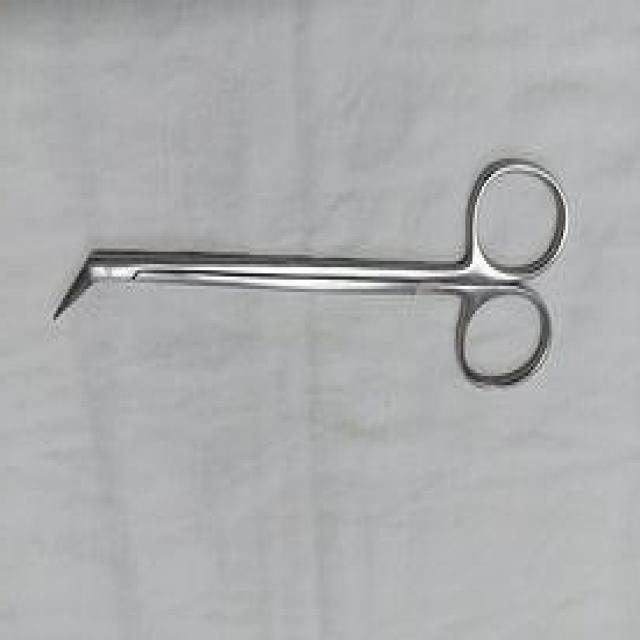Potts: (47, 152, 570, 395)
